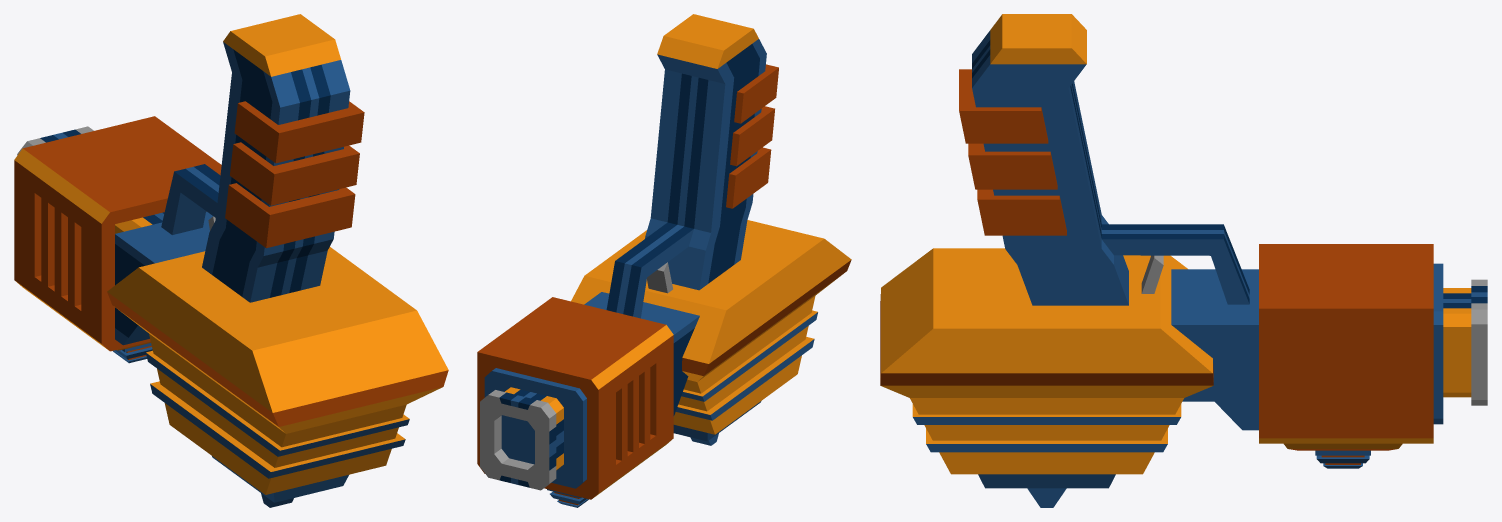
The model's file is Gun.fbx.
3 renders of one model, left to right at view 1: azimuth 30°, elevation 25°; view 2: azimuth 150°, elevation 25°; view 3: azimuth 270°, elevation 25°, orthographic. The views are drawn at different scales.
Visible parts, largest first — view 1: Cube; view 2: Cube; view 3: Cube.
Boxes of the visible parts, bbox=[...] form: Cube: bbox=[14, 14, 448, 507]; Cube: bbox=[477, 14, 851, 507]; Cube: bbox=[880, 14, 1487, 507].
Size of the model in its own units: 169 by 434 by 506.
